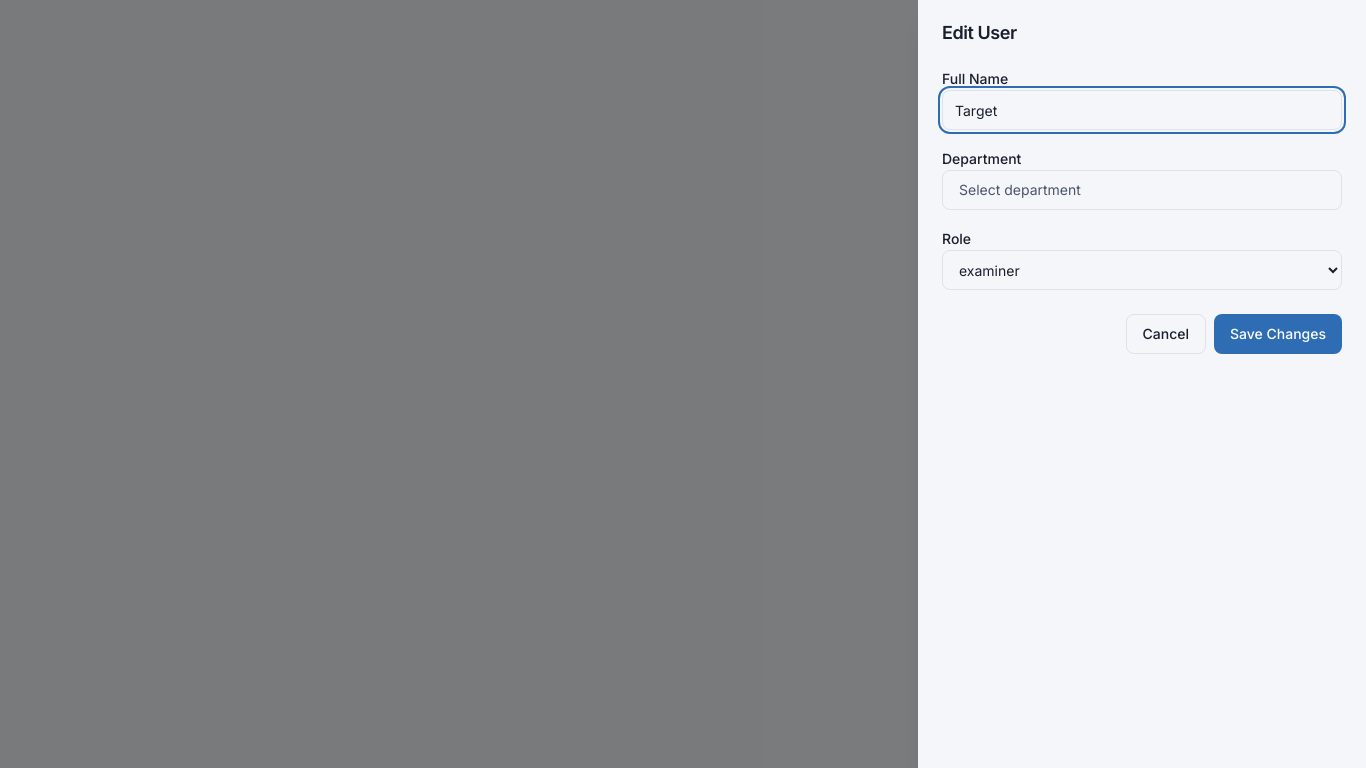
Test: 403 FORBIDDEN is localized › edit shows the forbidden message
What coordinates should you click on to do the following:
click the button "Save Changes"
I would click on:
 (1278, 334)
Its box is [1214,314,1342,354].
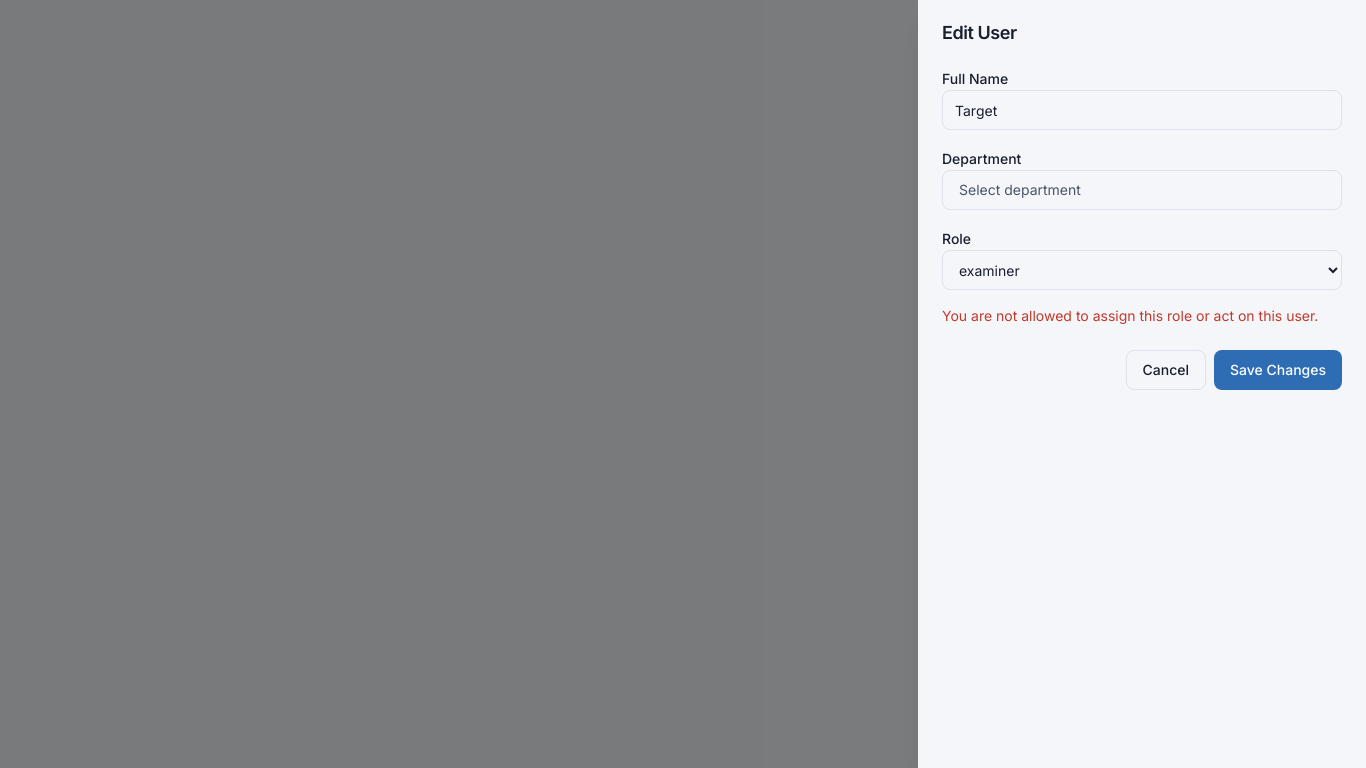
Result: the text "You are not allowed to assign this role or act on this user." is shown at [942,306,1342,326]
